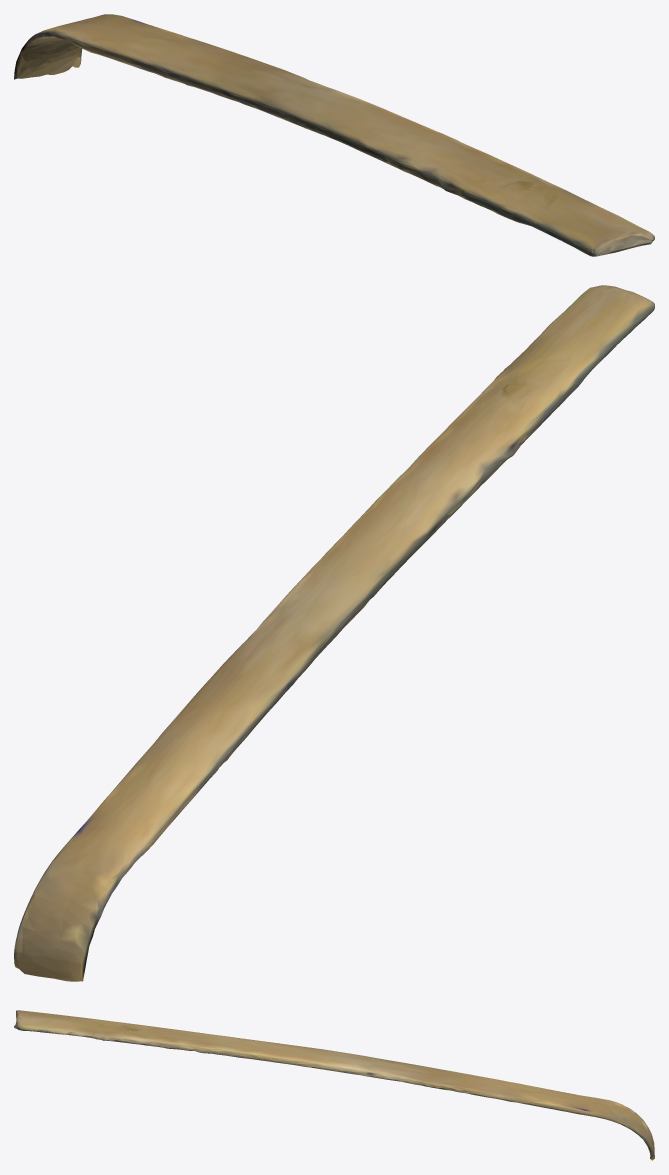
Rendered from scan.obj.
The picture shows the model from 3 angles, top to bottom: view 1: azimuth 30°, elevation 25°; view 2: azimuth 150°, elevation 25°; view 3: azimuth 270°, elevation 25°; orthographic projection. The views are drawn at different scales.
Parts seen in each view (by area): view 1: scan.ply; view 2: scan.ply; view 3: scan.ply.
Boxes of the visible parts, x1=… form: scan.ply: x1=14, y1=14, x2=654, y2=256; scan.ply: x1=14, y1=285, x2=654, y2=981; scan.ply: x1=14, y1=1010, x2=654, y2=1160.
Bounding box in the file's own units: 0.0298 × 0.0917 × 0.3774.
